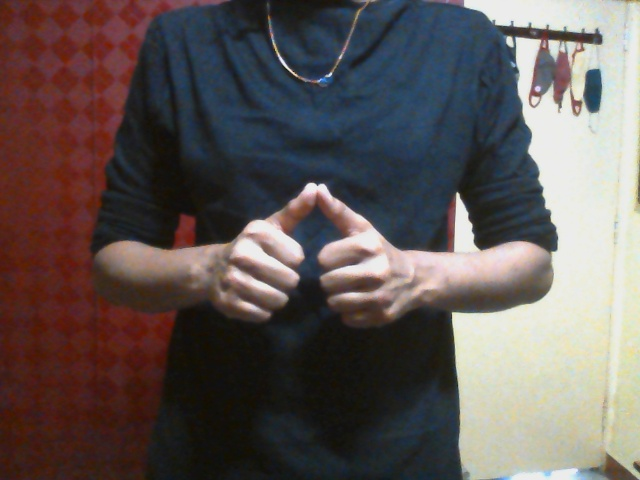A: (198, 180, 417, 329)
